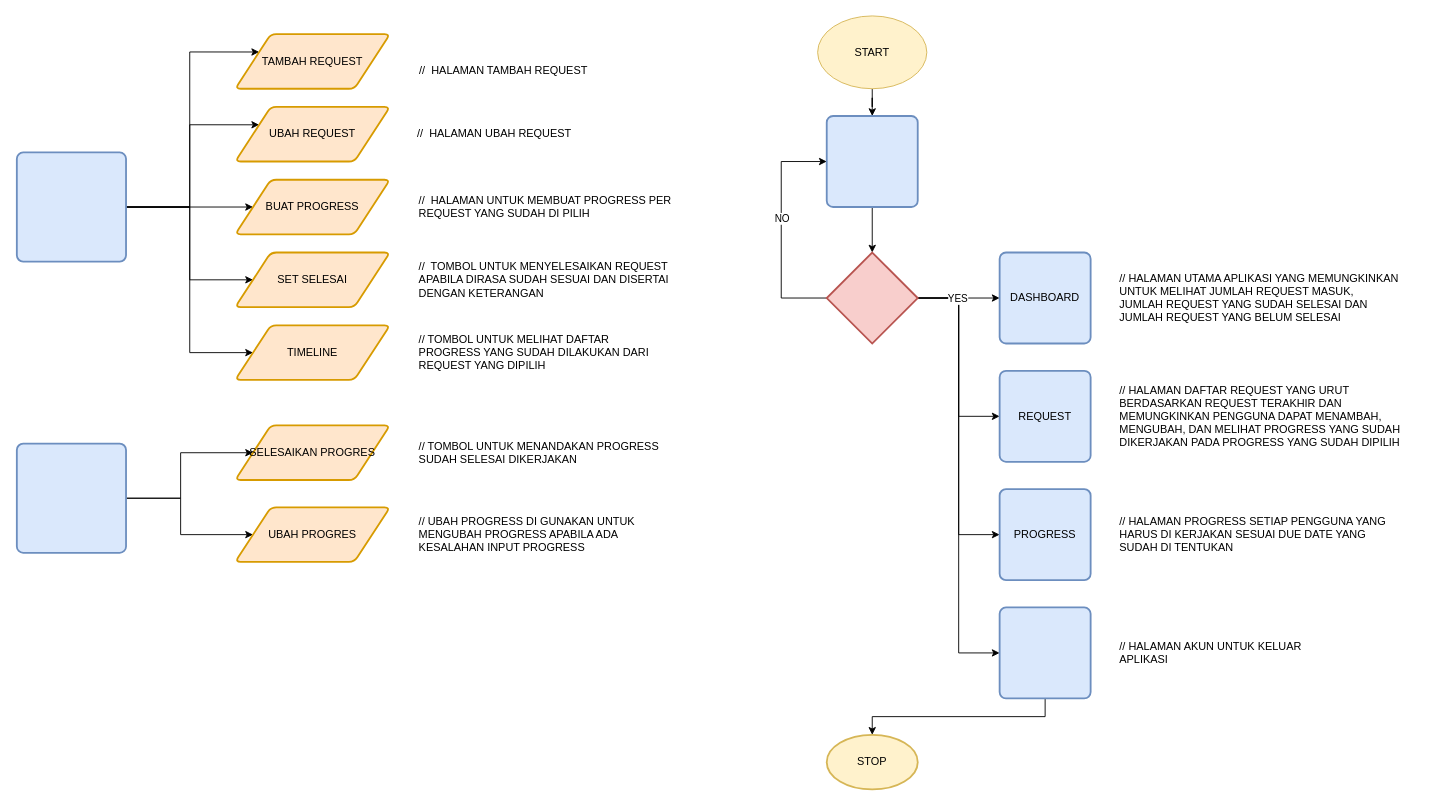
Some shapes in this 1433 by 806 pixel diagram are drawn without their labels. Each missing label, with the centre of its shape:
"AKUN" belongs at (x=1044, y=652).
"DAFTAR PROGRES" belongs at (x=70, y=497).
"DAFTAR REQUEST" belongs at (x=70, y=206).
"LOGIN" belongs at (x=871, y=161).
"TRUE" belongs at (x=871, y=297).
